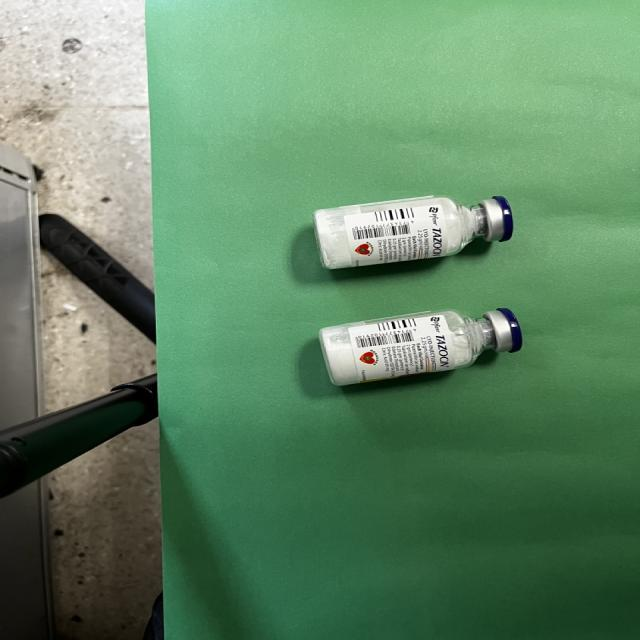Vials: (319, 308, 524, 387), (313, 196, 515, 270)
